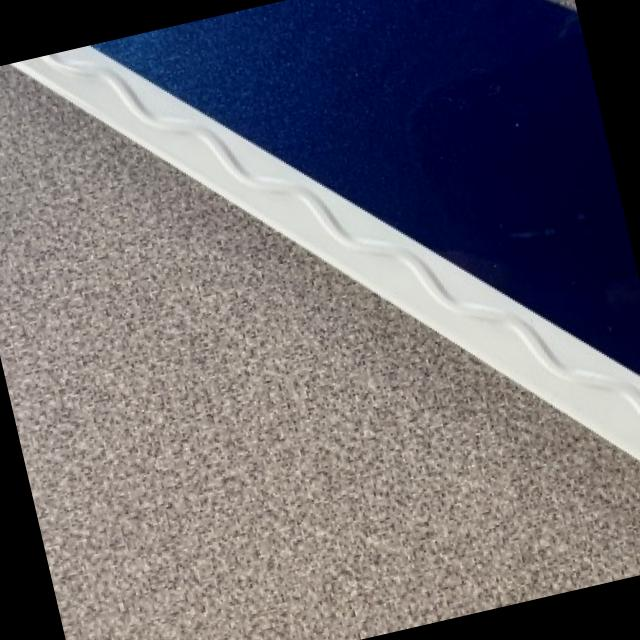healthy: (0, 64, 640, 640)
